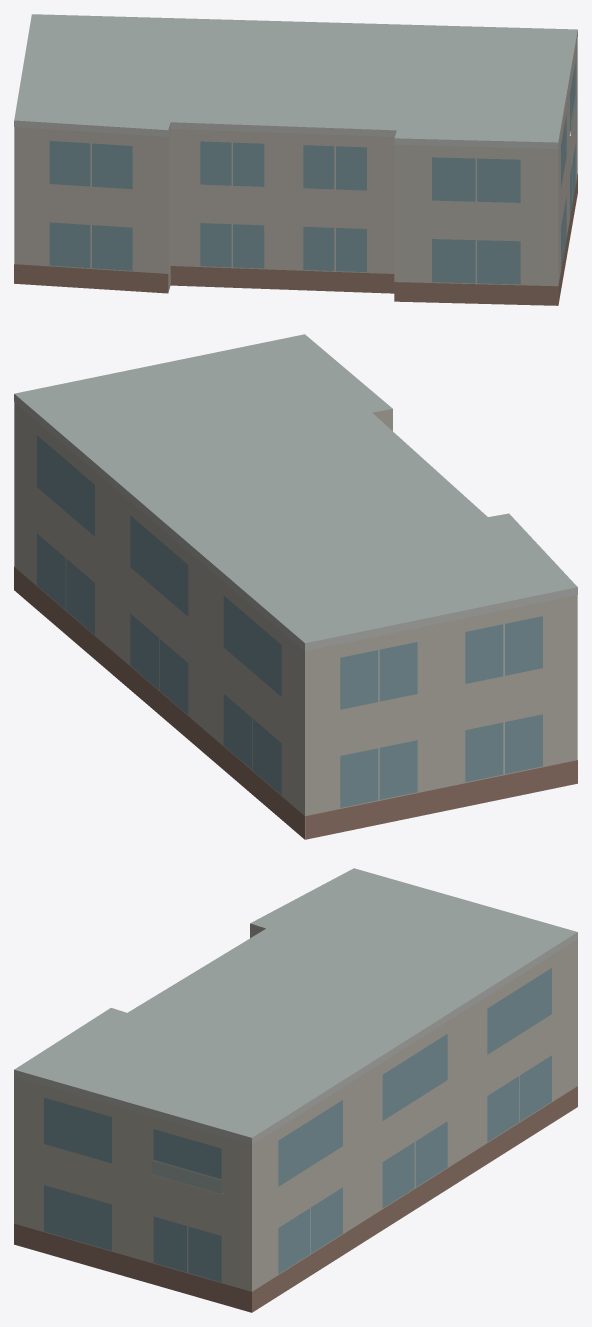
File: survey-upis-32785998.glb
3 views of the same model, one above another, from view 1: azimuth 30°, elevation 25°; view 2: azimuth 150°, elevation 25°; view 3: azimuth 270°, elevation 25° (orthographic). The views are drawn at different scales.
Visible parts, largest first — view 1: survey-upis-32785998.tmp; view 2: survey-upis-32785998.tmp; view 3: survey-upis-32785998.tmp.
Part boxes in pixels (left/top/right/bottom): survey-upis-32785998.tmp: left=14, top=14, right=577, bottom=305; survey-upis-32785998.tmp: left=14, top=334, right=577, bottom=839; survey-upis-32785998.tmp: left=14, top=868, right=577, bottom=1312.
Size of the model in its own units: 20.19 by 6.1 by 17.83.
